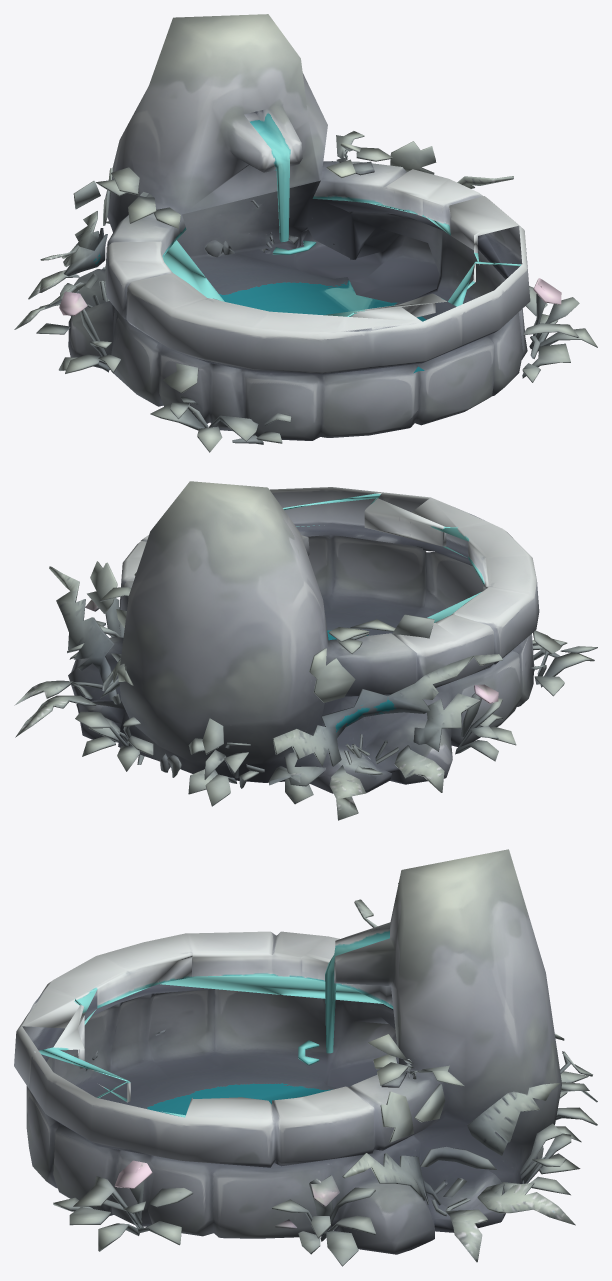
3 views of the same model, one above another, from view 1: azimuth 30°, elevation 25°; view 2: azimuth 150°, elevation 25°; view 3: azimuth 270°, elevation 25° (orthographic). The views are drawn at different scales.
Parts seen in each view (by area): view 1: spring-frost; view 2: spring-frost; view 3: spring-frost.
Boxes of the visible parts, left/top/right/bottom form: spring-frost: left=14, top=14, right=597, bottom=452; spring-frost: left=14, top=481, right=597, bottom=820; spring-frost: left=14, top=849, right=597, bottom=1266.
Size of the model in its own units: 0.998 by 0.5499 by 0.9883.
1 material, 1 textured.
